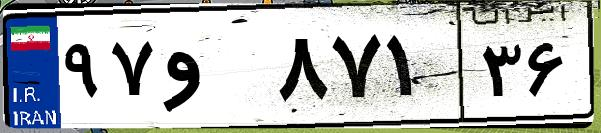1: (385, 28, 445, 110)
3: (475, 38, 525, 113)
6: (525, 38, 570, 115)
7: (330, 28, 385, 110), (110, 28, 158, 98)
8: (270, 28, 330, 110)
9: (57, 26, 110, 100)
و: (158, 20, 270, 120)
